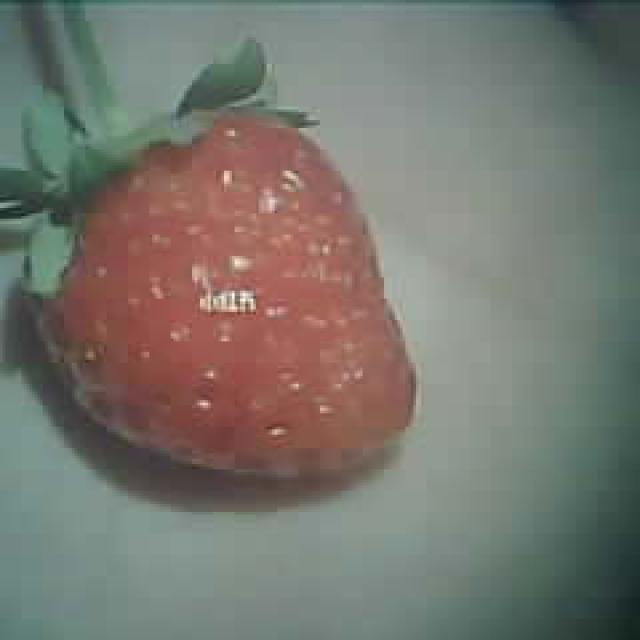ripe: (34, 112, 422, 472)
